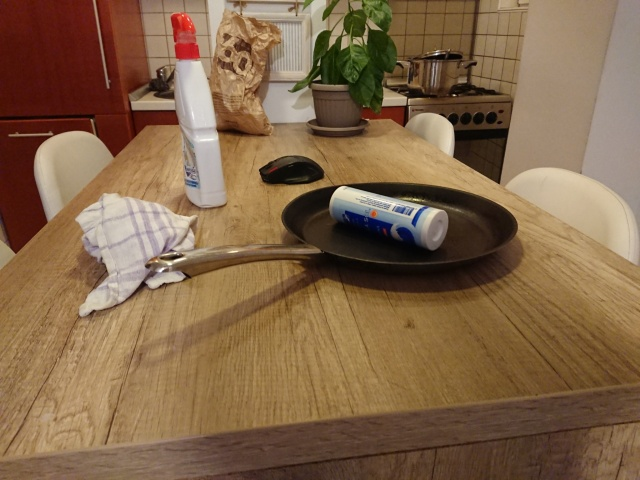Solana Pag Fine Sea Salt 250g: (326, 182, 451, 254)
